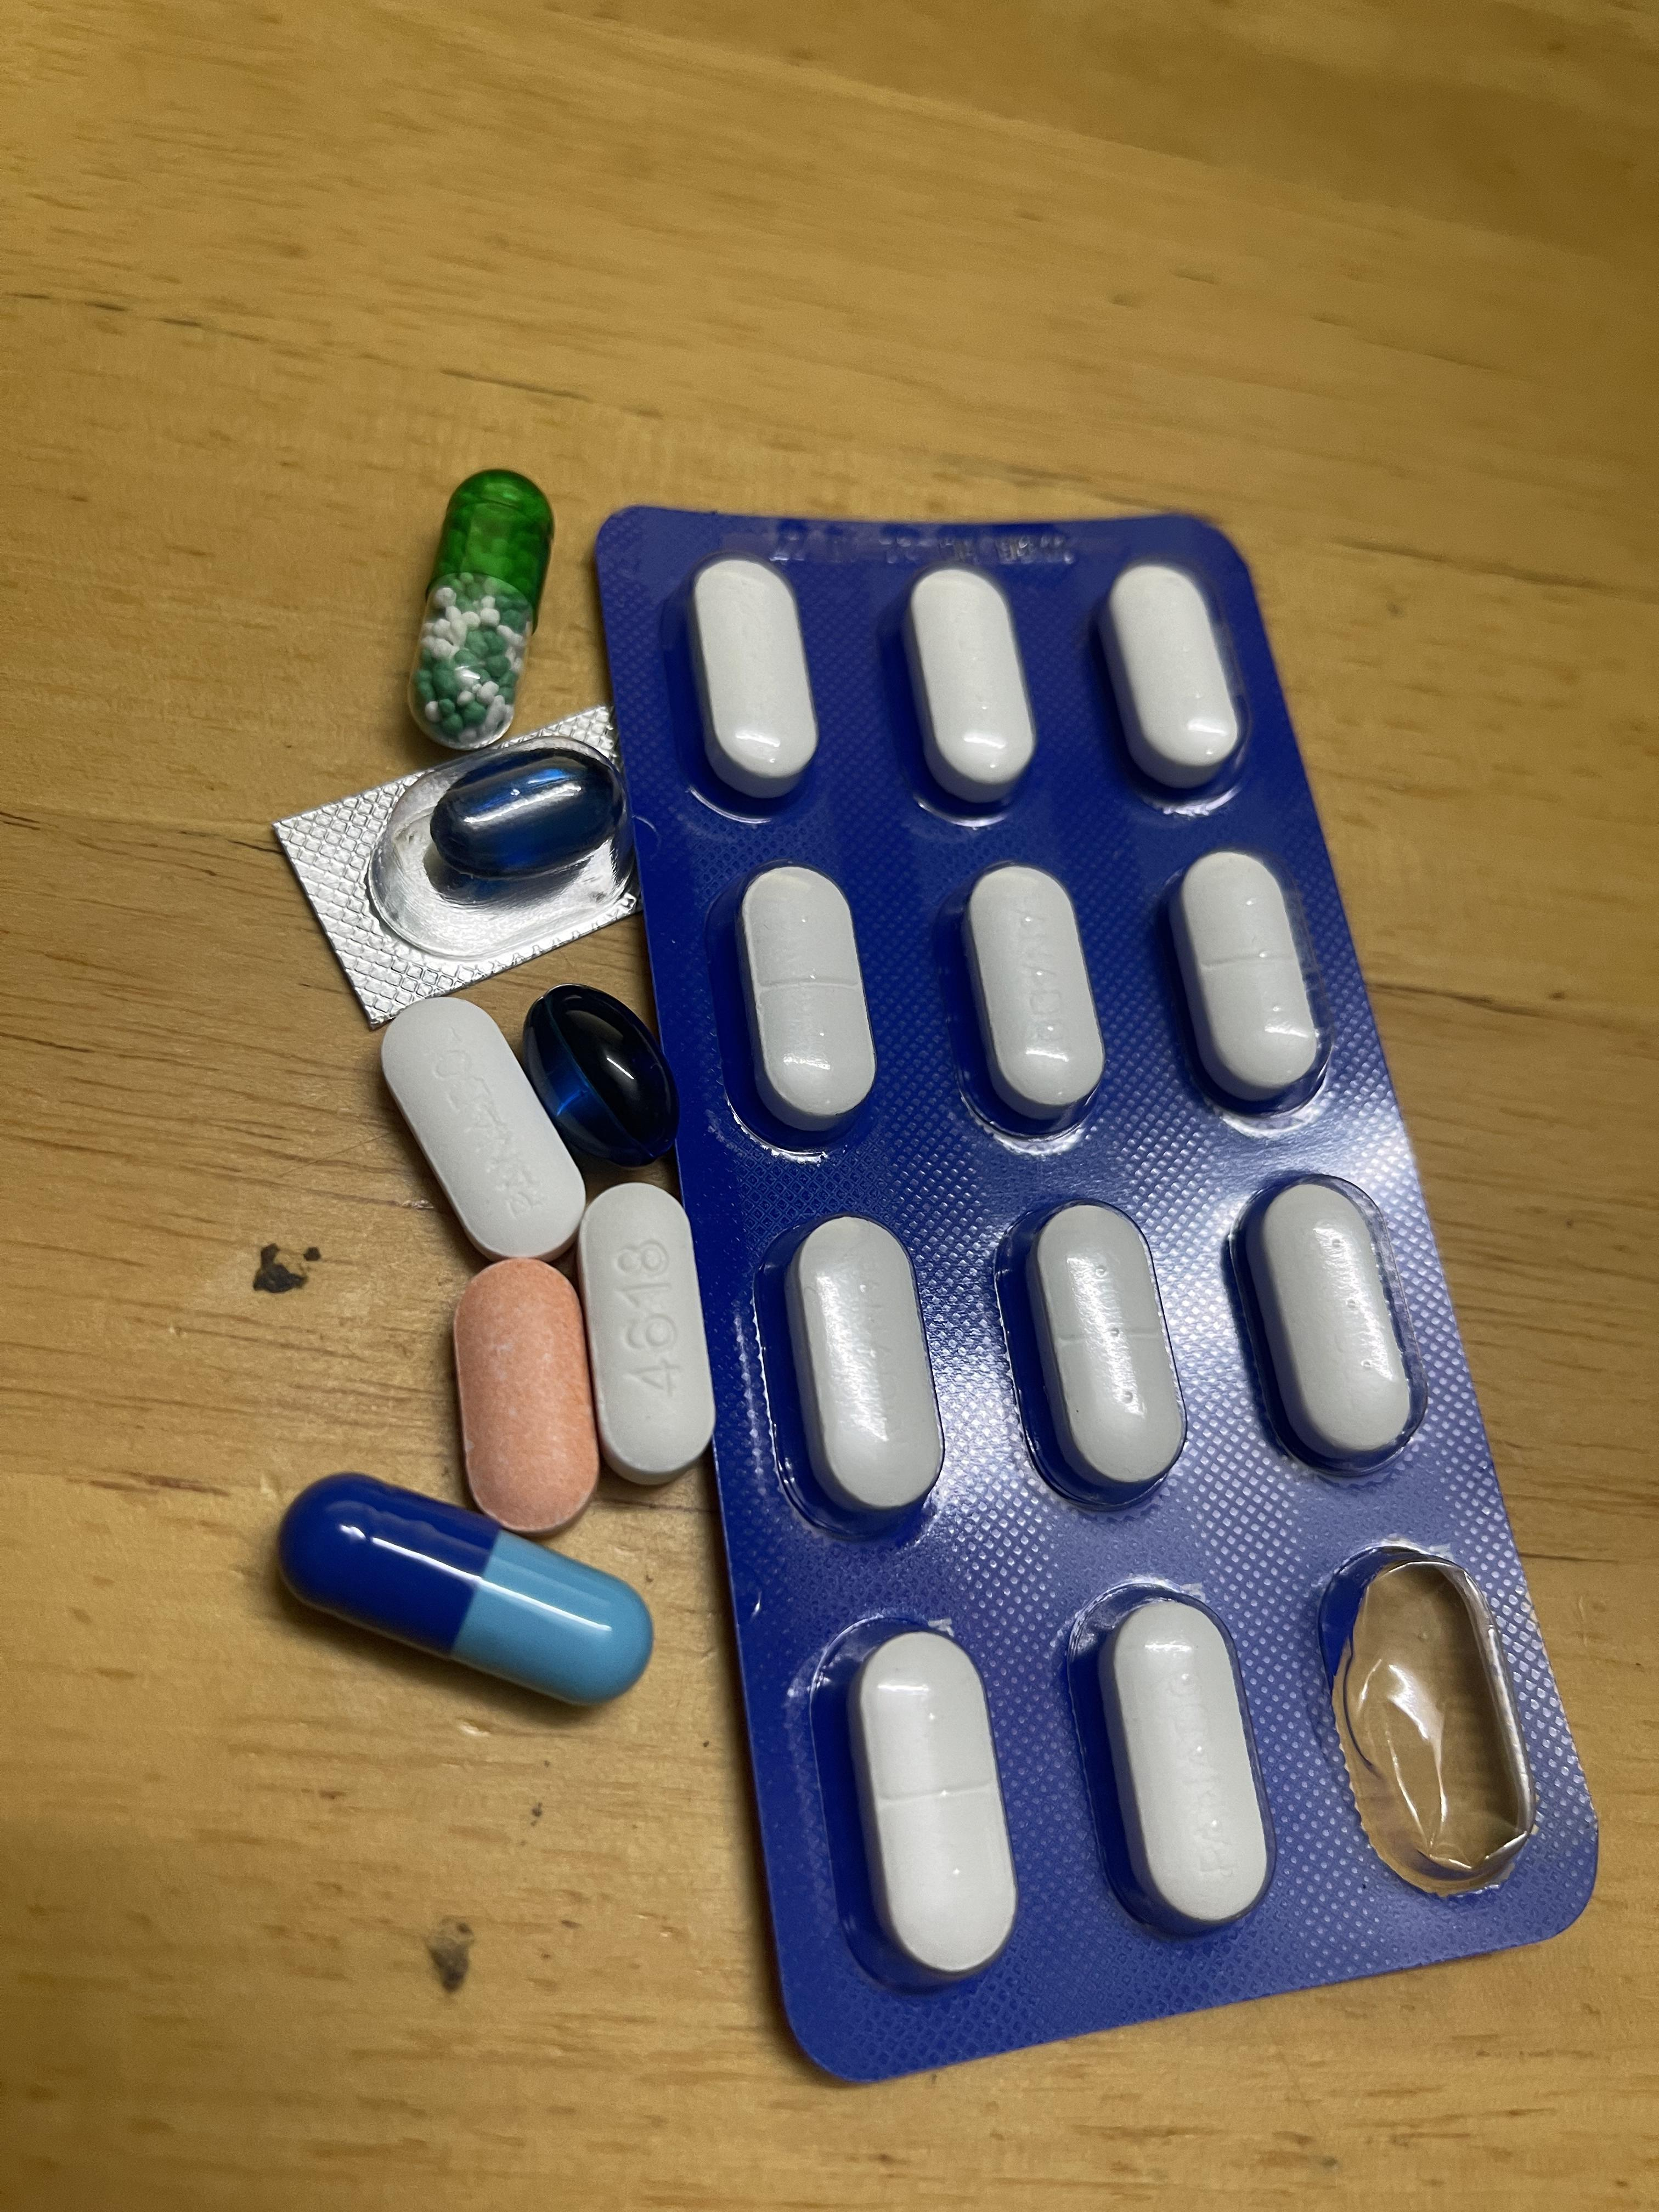Lincomyxin_500mg: (523, 982, 681, 1167), (429, 745, 626, 883)
Loratadine_10mg: (455, 1263, 596, 1521)
Paracetamol_350mg: (1091, 1588, 1274, 1937), (845, 1622, 1021, 1982), (1236, 1169, 1420, 1480), (1006, 1195, 1185, 1512), (781, 1212, 943, 1524), (385, 1007, 580, 1249), (1169, 852, 1326, 1111), (960, 866, 1105, 1129), (739, 869, 878, 1136), (1100, 561, 1243, 792), (688, 557, 821, 799), (903, 568, 1037, 806)
Paracetamol_500mg: (577, 1190, 713, 1489)
Paracetamol_650mg: (413, 474, 551, 740)
pill: (289, 1496, 641, 1707)
